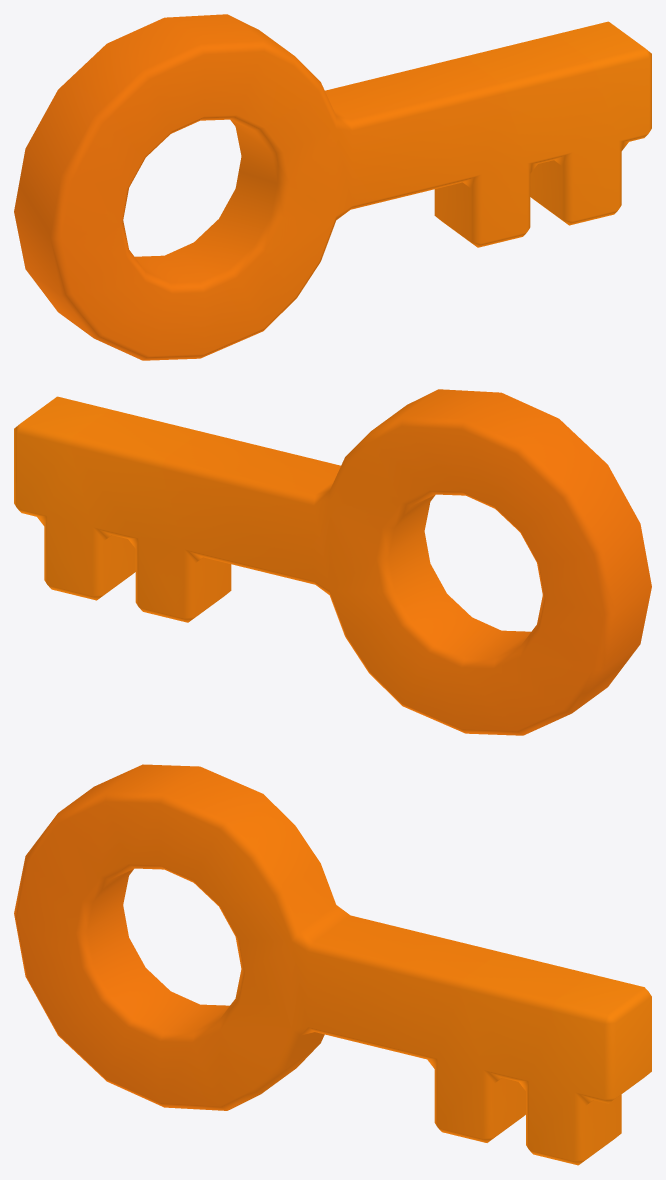
File: key_001.glb
The picture shows the model from 3 angles, top to bottom: view 1: azimuth 30°, elevation 25°; view 2: azimuth 150°, elevation 25°; view 3: azimuth 330°, elevation 25°; orthographic projection.
Visible parts, largest first — view 1: key_001; view 2: key_001; view 3: key_001.
Boxes of the visible parts, left/top/right/bottom form: key_001: left=14, top=14, right=651, bottom=360; key_001: left=14, top=389, right=651, bottom=735; key_001: left=14, top=764, right=651, bottom=1165.
Size of the model in its own units: 1.66 by 0.8305 by 0.2124.
Materials: 1 (1 with a texture image).
